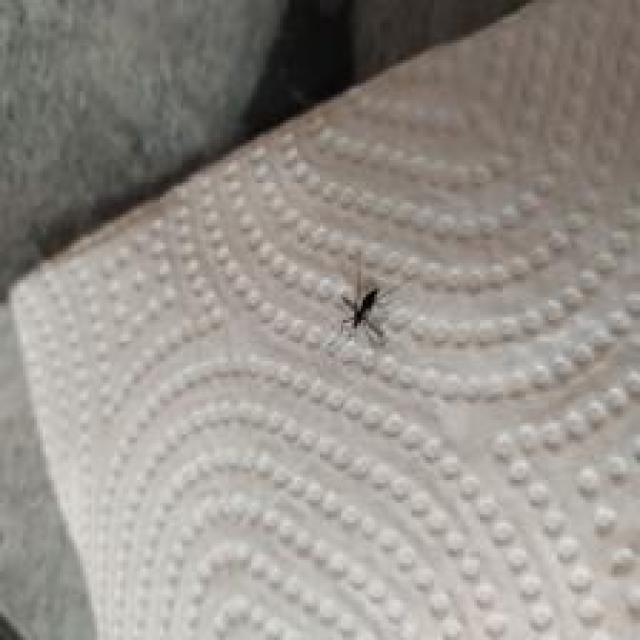Aedes albopictus: (336, 264, 390, 347)
